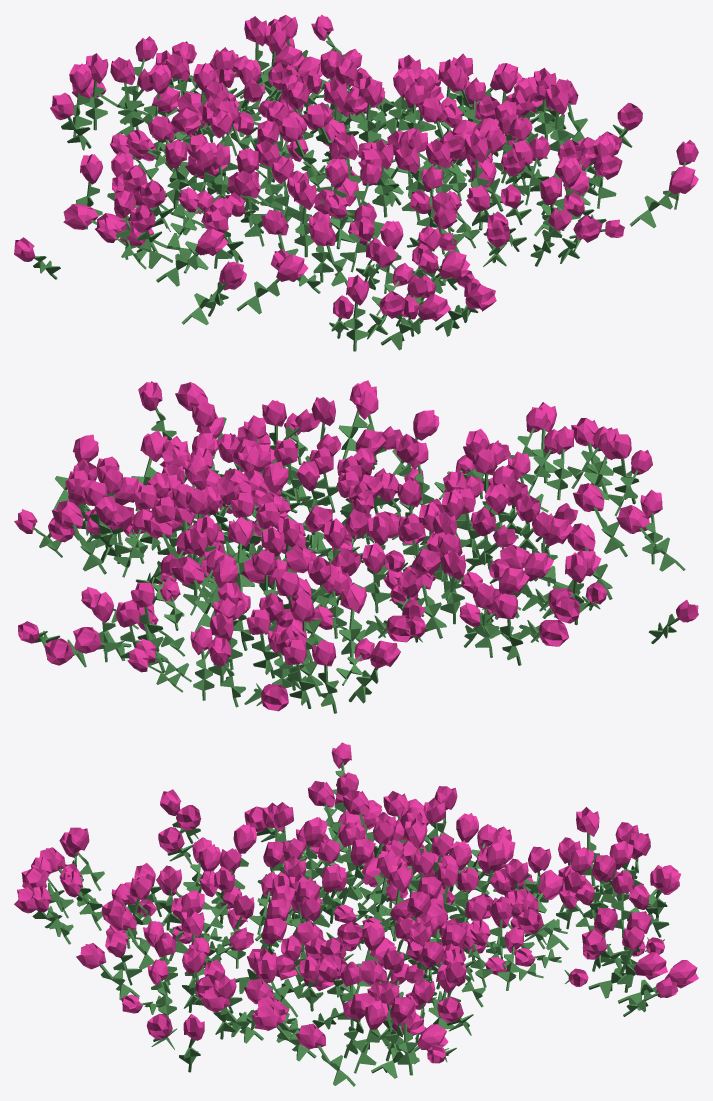
Rendered from FlowerPatch.fbx.
3 views of the same model, one above another, from view 1: azimuth 30°, elevation 25°; view 2: azimuth 150°, elevation 25°; view 3: azimuth 270°, elevation 25° (orthographic). The views are drawn at different scales.
Parts seen in each view (by area): view 1: FlowerPatch; view 2: FlowerPatch; view 3: FlowerPatch.
Part boxes in pixels (x1,y1,x2,y2): FlowerPatch: (14,14,698,351); FlowerPatch: (14,380,698,713); FlowerPatch: (14,742,698,1086).
Bounding box in the file's own units: 146 × 22.95 × 143.
